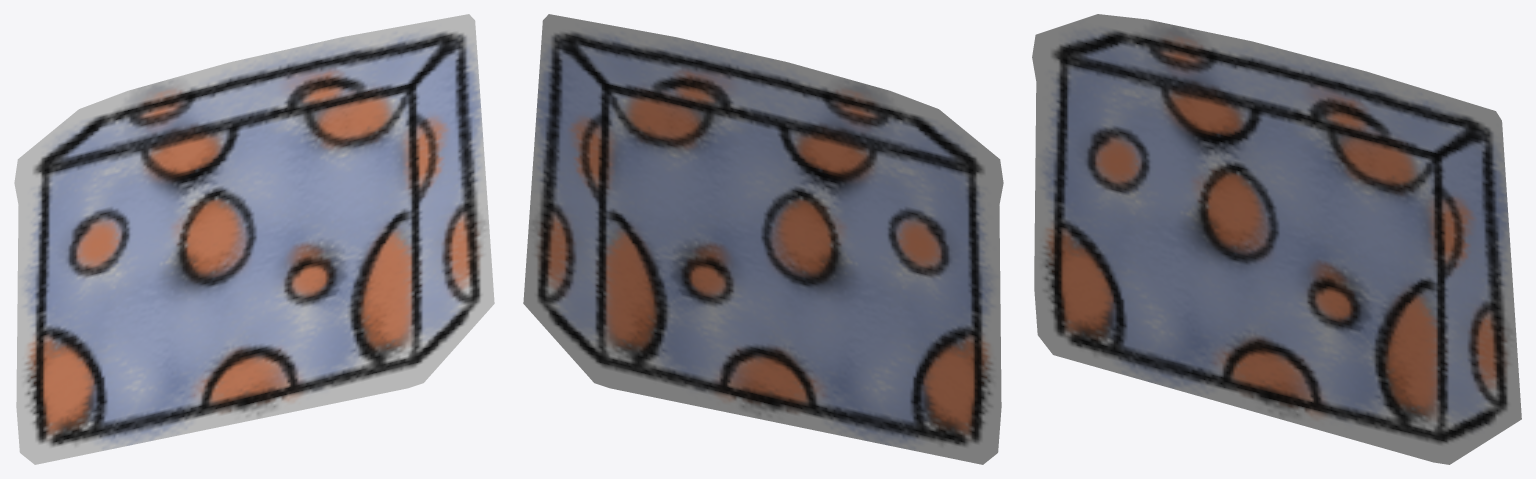
Rendered from Leksaker.fbx.
3 views of the same model, side by side, from view 1: azimuth 30°, elevation 25°; view 2: azimuth 150°, elevation 25°; view 3: azimuth 330°, elevation 25° (orthographic). The views are drawn at different scales.
Visible parts, largest first — view 1: leksaker; view 2: leksaker; view 3: leksaker.
Boxes of the visible parts, left/top/right/bottom form: leksaker: left=14, top=14, right=494, bottom=464; leksaker: left=523, top=14, right=1003, bottom=464; leksaker: left=1032, top=14, right=1521, bottom=464.
Size of the model in its own units: 68.24 by 50.17 by 8.17e-06.
1 material, 1 textured.
